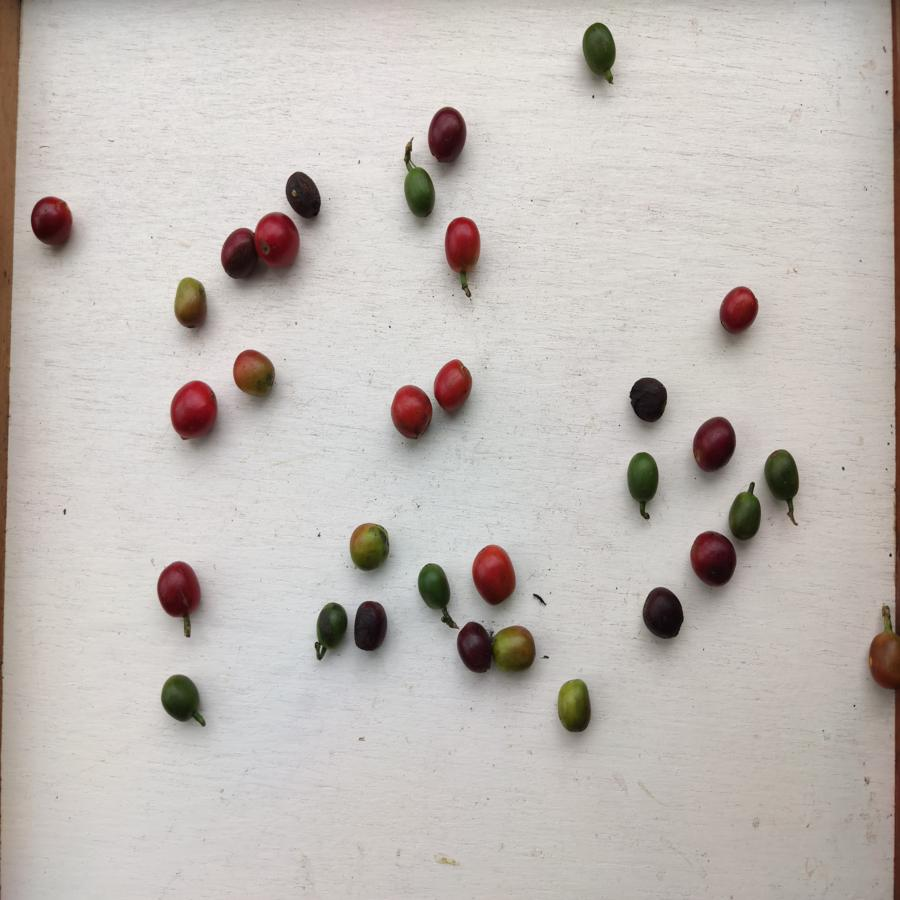Inmaduro: (158, 674, 203, 729), (577, 22, 620, 77), (624, 448, 663, 507), (763, 450, 806, 501), (413, 562, 456, 613), (314, 601, 350, 653), (402, 166, 437, 217), (729, 491, 763, 539)
Maduro: (169, 375, 220, 442), (469, 544, 517, 608), (387, 383, 436, 441), (256, 212, 302, 268), (432, 358, 476, 413), (717, 284, 760, 334), (445, 217, 484, 271)
Pinton: (230, 349, 281, 400), (345, 521, 391, 576), (557, 675, 595, 734), (495, 626, 537, 674), (868, 627, 900, 690), (172, 278, 209, 332)
Sobremaduro: (690, 530, 738, 589), (153, 561, 201, 620), (423, 105, 469, 165), (26, 196, 75, 251), (693, 415, 739, 472), (641, 583, 685, 642), (221, 226, 259, 285), (456, 623, 495, 677), (285, 167, 326, 217), (352, 599, 390, 652), (630, 375, 668, 424)
